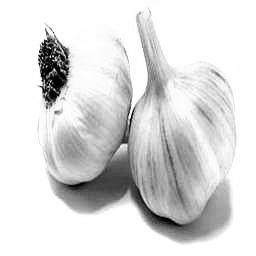bukan telur: (129, 12, 237, 222), (38, 25, 130, 183)
